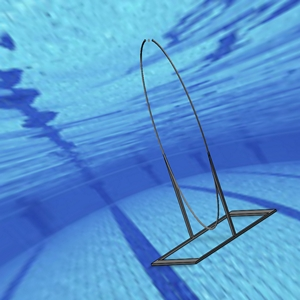circle: (137, 37, 277, 266)
